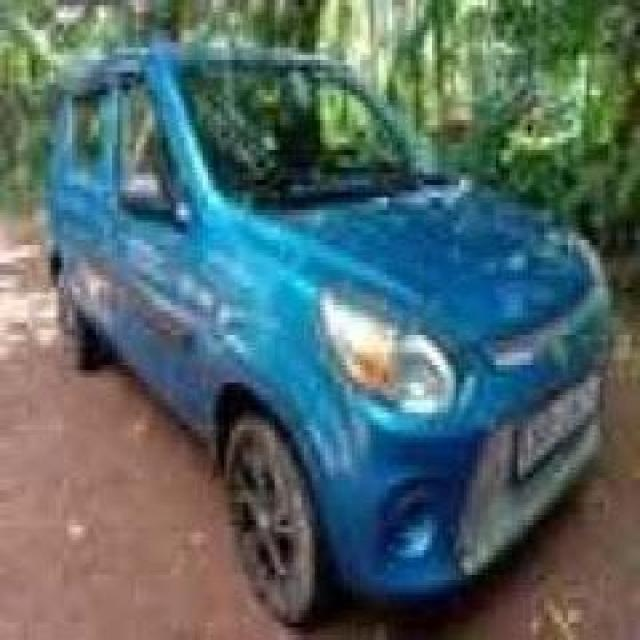car: (12, 13, 625, 623)
